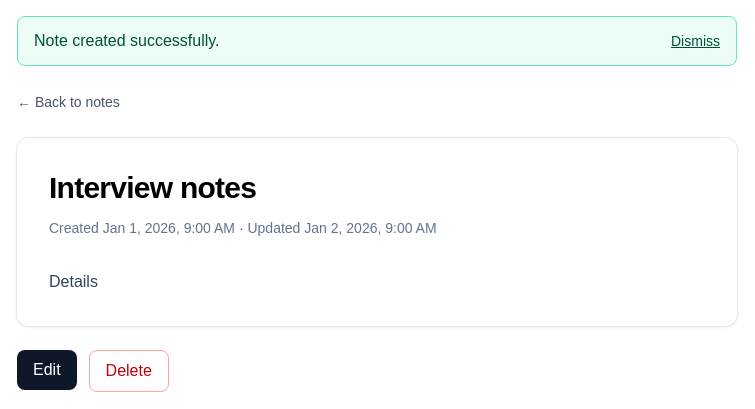
Test case: note success alerts › allows the success alert to be dismissed
Click the button with aria-label "Dismiss notification": [696, 41] box [671,31,720,51]
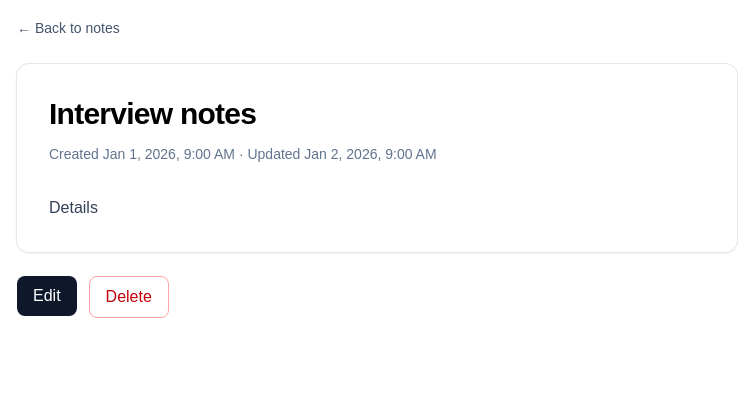
Expected: the message "Note created successfully. Dismiss" is gone
